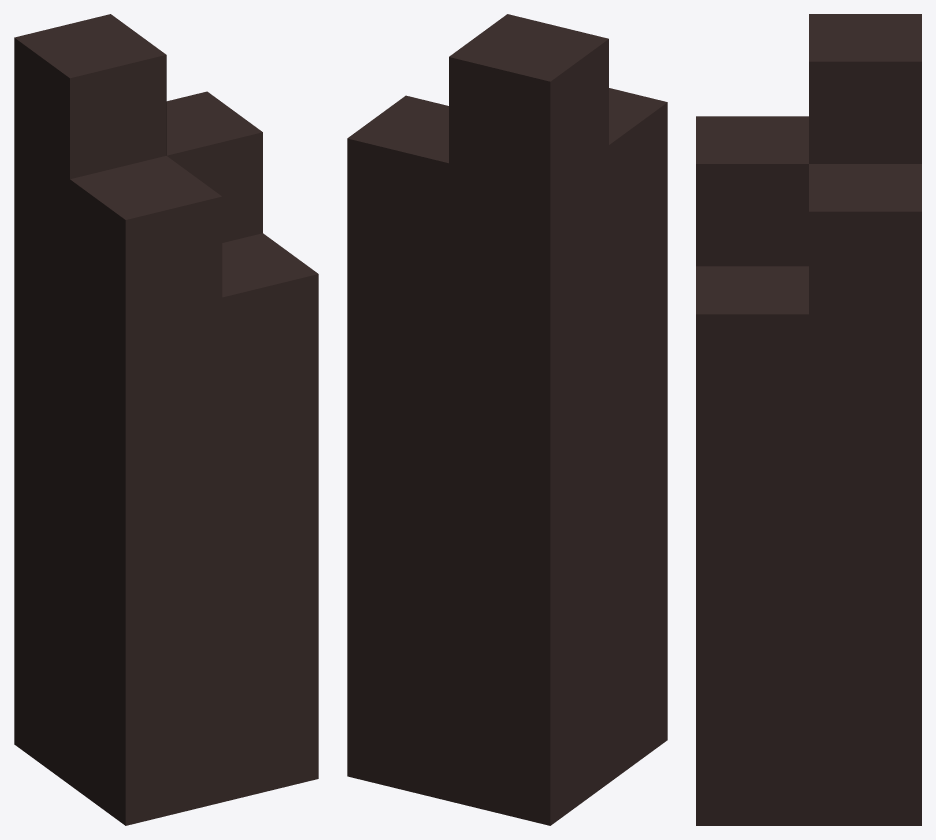
The model's file is fox__leg_br.obj.
3 views of the same model, side by side, from view 1: azimuth 30°, elevation 25°; view 2: azimuth 150°, elevation 25°; view 3: azimuth 270°, elevation 25° (orthographic). The views are drawn at different scales.
Parts seen in each view (by area): view 1: fox__leg_br; view 2: fox__leg_br; view 3: fox__leg_br.
Boxes of the visible parts, x1,y1,x2,y2 form: fox__leg_br: [14, 14, 318, 825]; fox__leg_br: [347, 14, 667, 825]; fox__leg_br: [696, 14, 921, 825].
Size of the model in its own units: 0.2 by 0.7 by 0.2.
1 material, 1 textured.
